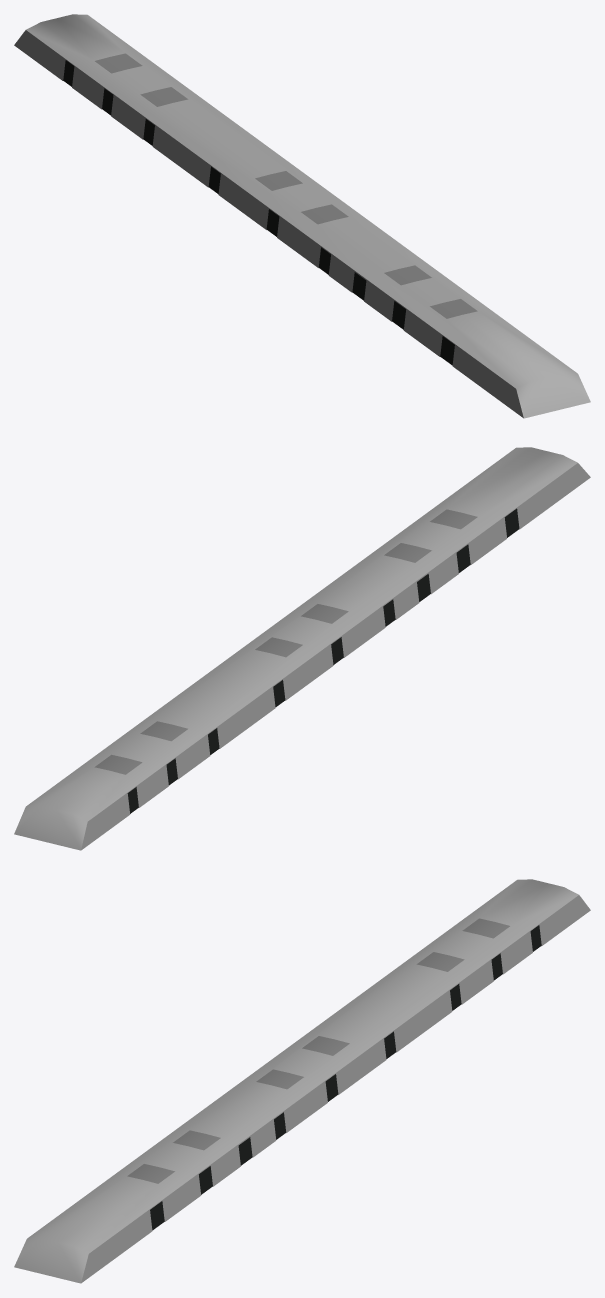
File: T200_PANTA02.glb
The picture shows the model from 3 angles, top to bottom: view 1: azimuth 30°, elevation 25°; view 2: azimuth 150°, elevation 25°; view 3: azimuth 330°, elevation 25°; orthographic projection.
Parts seen in each view (by area): view 1: obj13; view 2: obj13; view 3: obj13.
Boxes of the visible parts, x1,y1,x2,y2 form: obj13: (14,14,590,418); obj13: (14,447,590,850); obj13: (14,879,590,1283).
Size of the model in its own units: 2.89 by 1.07 by 38.05.
9 materials, 9 textured.
